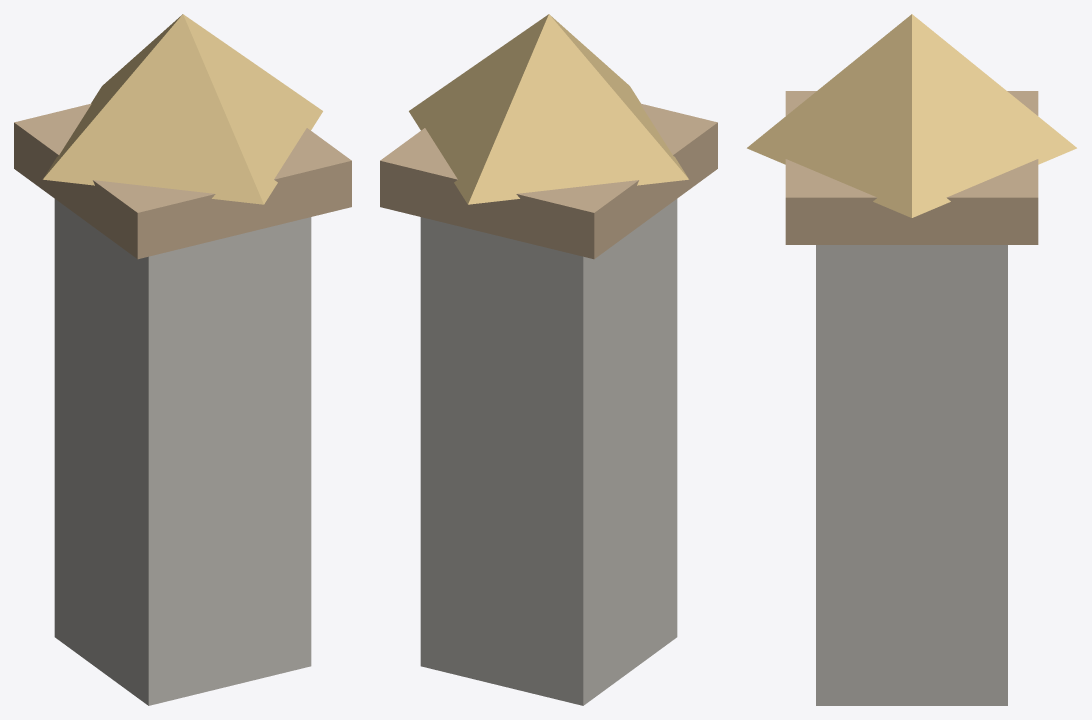
File: watchtower.glb
3 views of the same model, side by side, from view 1: azimuth 30°, elevation 25°; view 2: azimuth 150°, elevation 25°; view 3: azimuth 270°, elevation 25° (orthographic). The views are drawn at different scales.
Parts seen in each view (by area): view 1: watchtower_stone, watchtower_roof, watchtower_wood; view 2: watchtower_stone, watchtower_roof, watchtower_wood; view 3: watchtower_stone, watchtower_roof, watchtower_wood.
Part boxes in pixels (left/top/right/bottom): watchtower_stone: left=54, top=199, right=311, bottom=705; watchtower_roof: left=43, top=14, right=322, bottom=204; watchtower_wood: left=14, top=103, right=351, bottom=259; watchtower_stone: left=420, top=199, right=677, bottom=705; watchtower_roof: left=409, top=14, right=688, bottom=204; watchtower_wood: left=380, top=103, right=717, bottom=259; watchtower_stone: left=816, top=245, right=1007, bottom=705; watchtower_roof: left=747, top=14, right=1076, bottom=217; watchtower_wood: left=785, top=91, right=1038, bottom=244.
Bounding box in the file's own units: 1.27 × 2.75 × 1.27.
